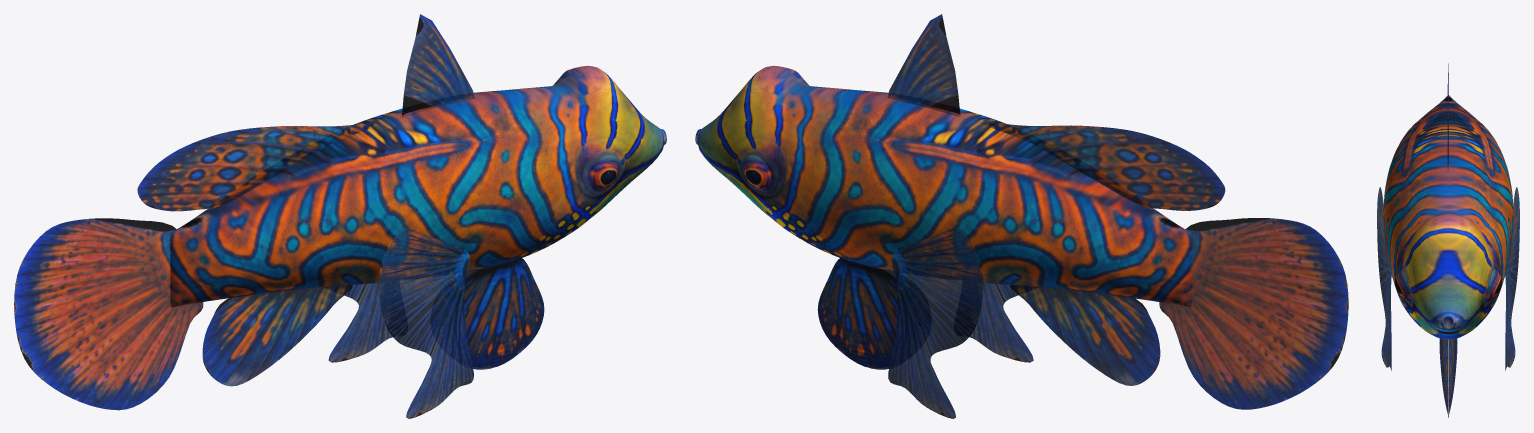
Rendered from goby.glb.
3 renders of one model, left to right at view 1: azimuth 30°, elevation 25°; view 2: azimuth 150°, elevation 25°; view 3: azimuth 270°, elevation 25°, orthographic. The views are drawn at different scales.
Parts seen in each view (by area): view 1: goby__body, goby__fin_0, goby__pectoral_1, goby__fin_3, goby__fin_2, goby__pelvic_1, goby__fin_1, goby__pectoral_-1, goby__gill_1, goby__eye_1; view 2: goby__body, goby__fin_0, goby__pectoral_-1, goby__fin_3, goby__fin_2, goby__pelvic_-1, goby__fin_1, goby__pectoral_1, goby__gill_-1, goby__eye_-1; view 3: goby__body, goby__pectoral_1, goby__pectoral_-1, goby__pelvic_1, goby__pelvic_-1, goby__eye_1, goby__eye_-1, goby__fin_1, goby__gill_1, goby__gill_-1.
Part boxes in pixels (<box>): goby__body: <box>170,65,666,306</box>; goby__fin_0: <box>14,218,203,410</box>; goby__pectoral_1: <box>379,228,473,418</box>; goby__fin_3: <box>137,123,379,211</box>; goby__fin_2: <box>202,285,352,386</box>; goby__pelvic_1: <box>464,258,544,369</box>; goby__fin_1: <box>401,14,475,117</box>; goby__pectoral_-1: <box>328,283,392,362</box>; goby__gill_1: <box>529,183,582,253</box>; goby__eye_1: <box>591,155,619,191</box>; goby__body: <box>695,65,1191,307</box>; goby__fin_0: <box>1159,218,1348,409</box>; goby__pectoral_-1: <box>888,228,983,418</box>; goby__fin_3: <box>983,122,1225,210</box>; goby__fin_2: <box>1010,285,1160,385</box>; goby__pelvic_-1: <box>817,258,897,369</box>; goby__fin_1: <box>887,14,960,117</box>; goby__pectoral_1: <box>969,283,1033,362</box>; goby__gill_-1: <box>779,183,832,253</box>; goby__eye_-1: <box>742,155,771,191</box>; goby__body: <box>1383,95,1513,339</box>; goby__pectoral_1: <box>1377,187,1391,370</box>; goby__pectoral_-1: <box>1505,187,1519,370</box>; goby__pelvic_1: <box>1439,338,1448,417</box>; goby__pelvic_-1: <box>1448,338,1457,417</box>; goby__eye_1: <box>1394,268,1409,302</box>; goby__eye_-1: <box>1487,268,1502,302</box>; goby__fin_1: <box>1447,63,1448,170</box>; goby__gill_1: <box>1390,254,1410,316</box>; goby__gill_-1: <box>1486,254,1506,316</box>.
Bounding box in the file's own units: 1.32 × 0.7232 × 0.2921.
5 materials, 5 textured.
